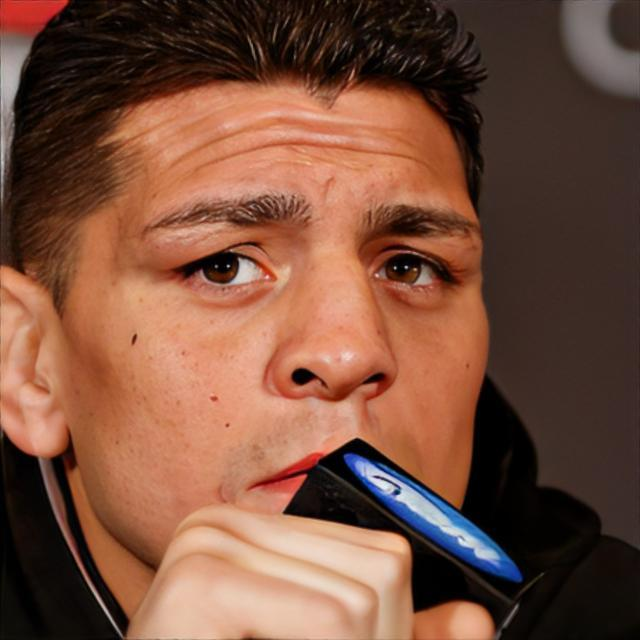sad: (76, 56, 492, 586)
